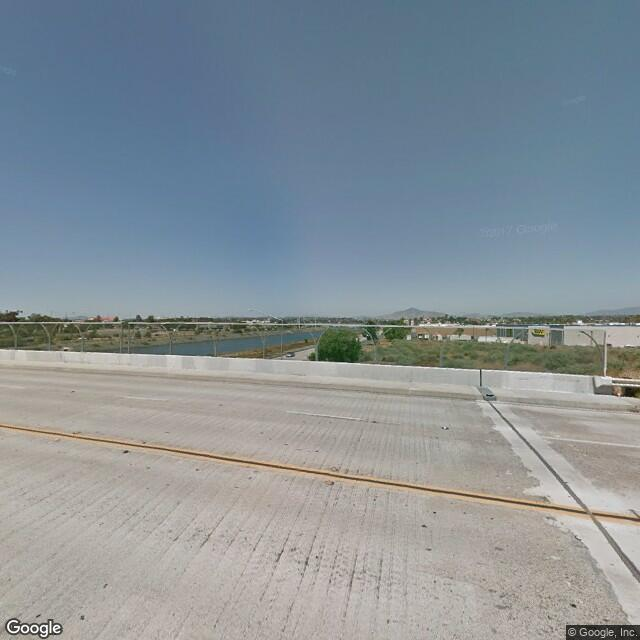litter: (615, 387, 624, 396), (483, 393, 497, 397)
